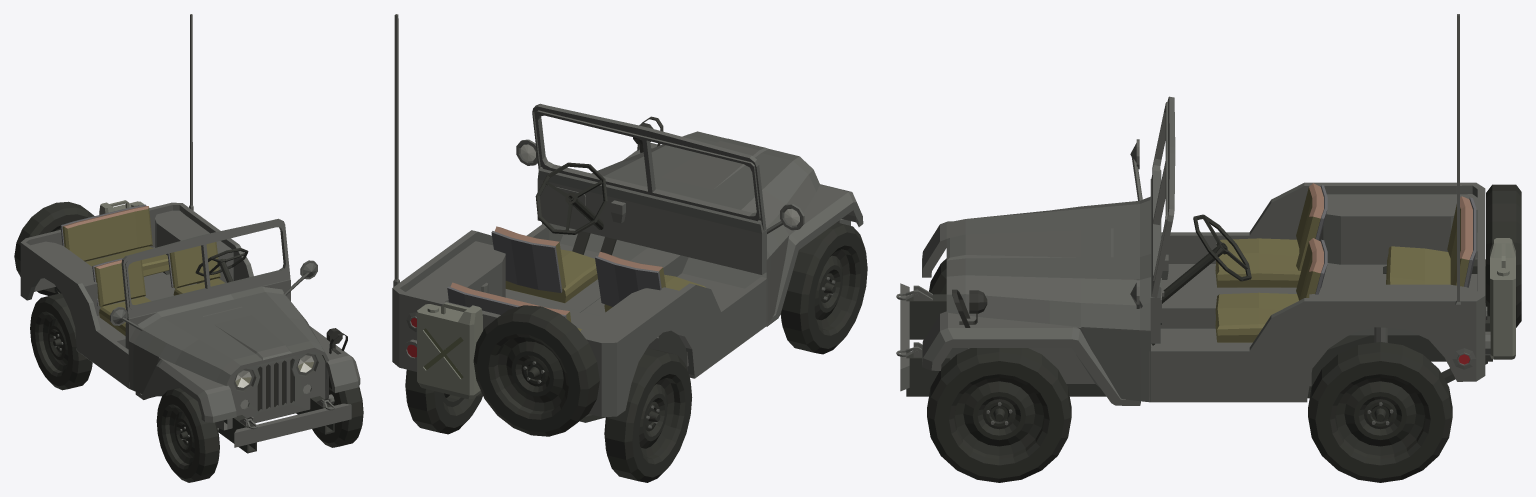
Rendered from willys-jeep-low-poly-57ab28.glb.
3 renders of one model, left to right at view 1: azimuth 30°, elevation 25°; view 2: azimuth 150°, elevation 25°; view 3: azimuth 270°, elevation 25°, orthographic. The views are drawn at different scales.
Parts seen in each view (by area): view 1: body; view 2: body; view 3: body.
Part boxes in pixels (x1,y1,x2,y2): body: (14,14,363,482); body: (392,14,867,482); body: (896,14,1521,482).
Size of the model in its own units: 2.76 by 4 by 4.8.
Materials: 1 (1 with a texture image).
